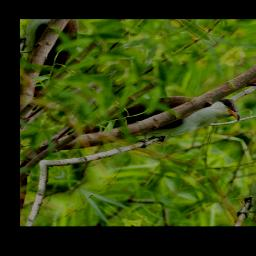Cuckoo: (60, 49, 254, 195)
